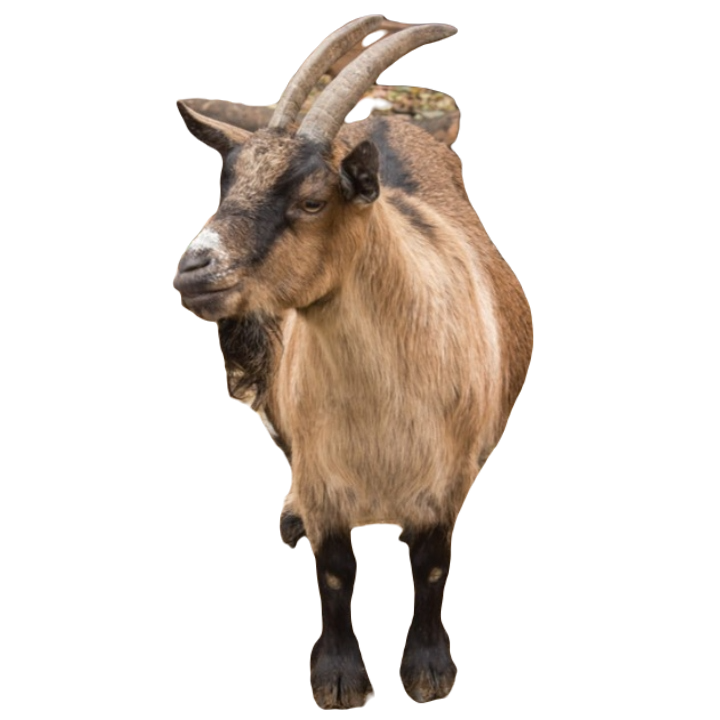Goat: (176, 6, 532, 715)
